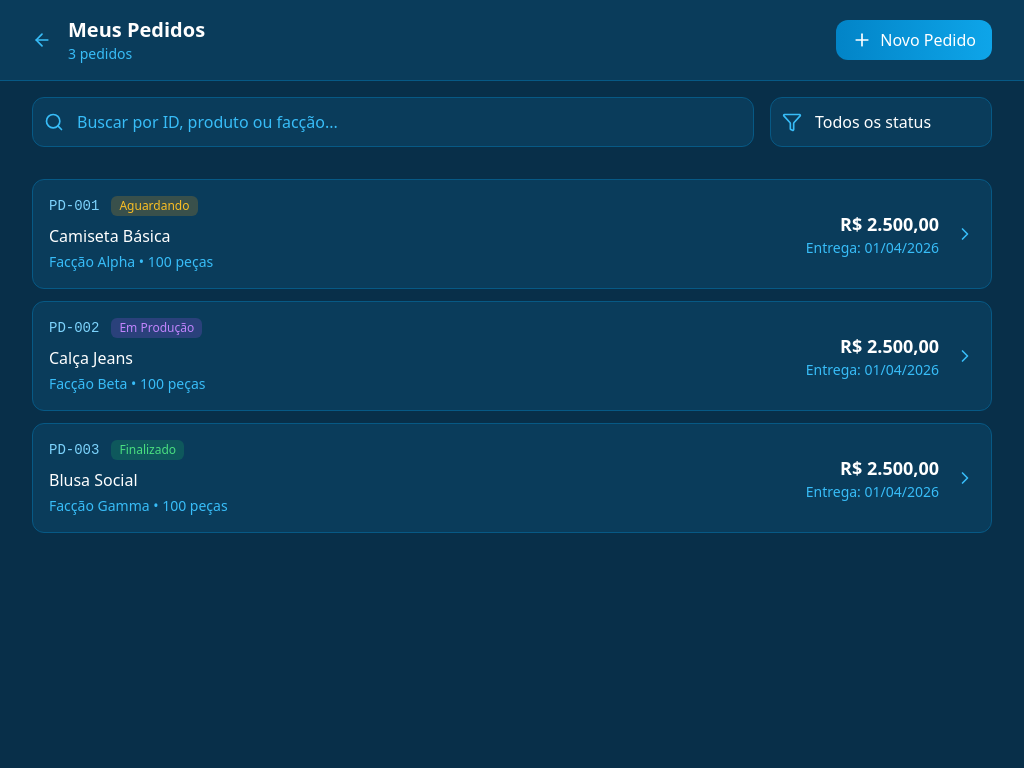
Scenario: OrdersListPage › TC-02: filtro por status › deve filtrar pedidos localmente pelo campo de busca por nome de produto
Expected: the heading "Camiseta Básica" is shown, [49,225,171,247]
Expected: the heading "Calça Jeans" is shown, [49,347,133,369]
Type "Calça" into the field with placeholder "Buscar por ID, produto ou facção..." at {"x": 393, "y": 122}, box [32,97,754,147]
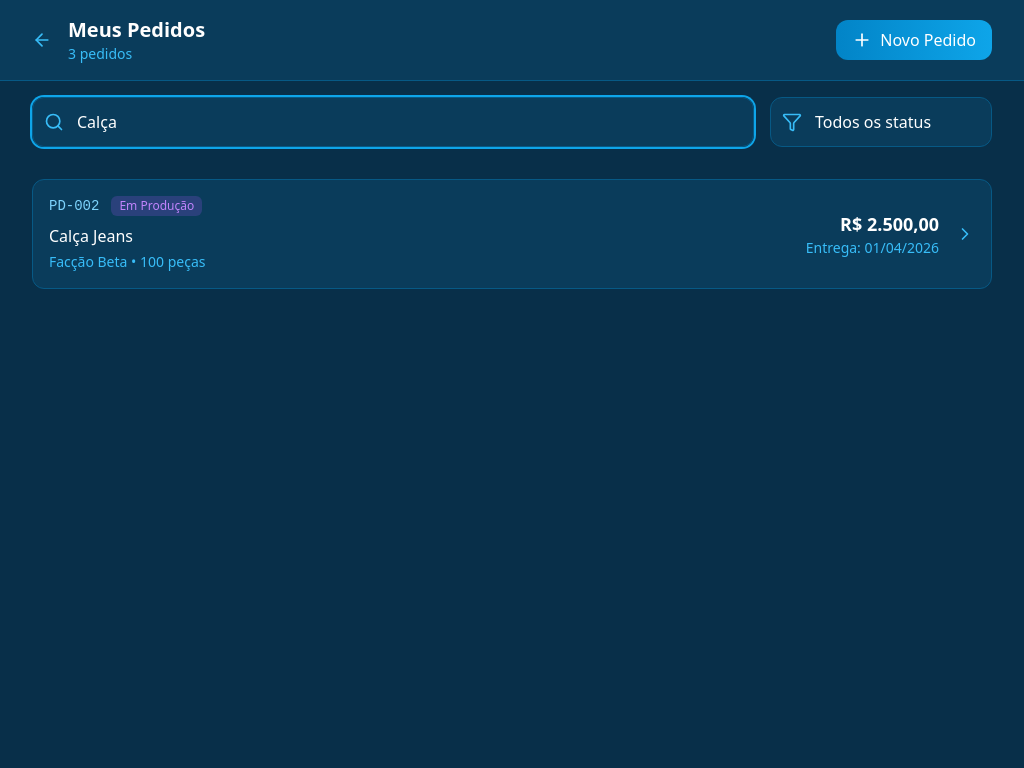
Expected: the heading "Calça Jeans" is shown, [49,225,133,247]
Result: the link "Camiseta Básica" is gone
